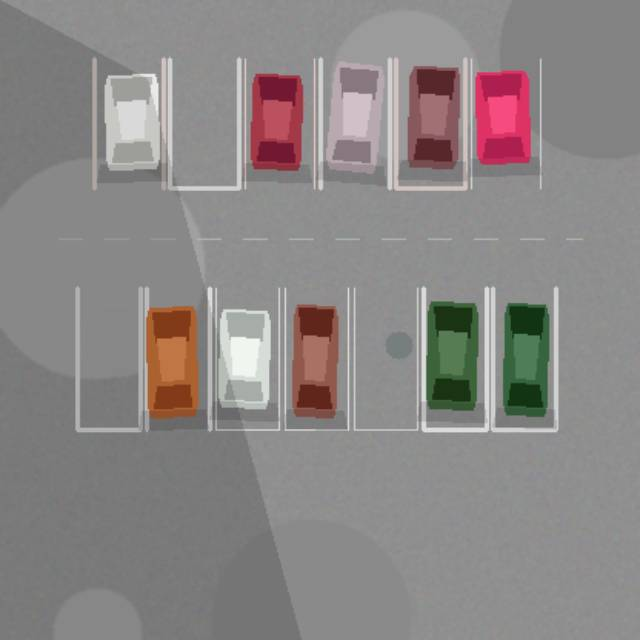space-empty: (169, 58, 238, 188), (77, 288, 140, 429), (354, 288, 417, 429)
space-occupied: (395, 58, 465, 188), (94, 58, 163, 188), (245, 58, 314, 188), (320, 58, 389, 188), (471, 58, 540, 188), (146, 288, 209, 429), (215, 288, 278, 429), (285, 288, 348, 429), (423, 288, 486, 429), (492, 288, 555, 429)
